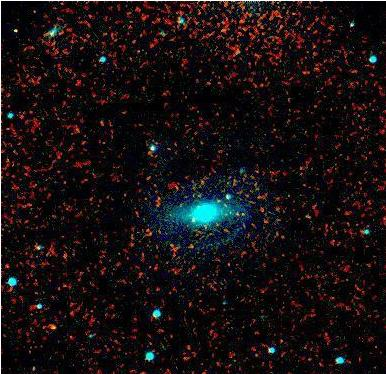star: (36, 311, 66, 341)
